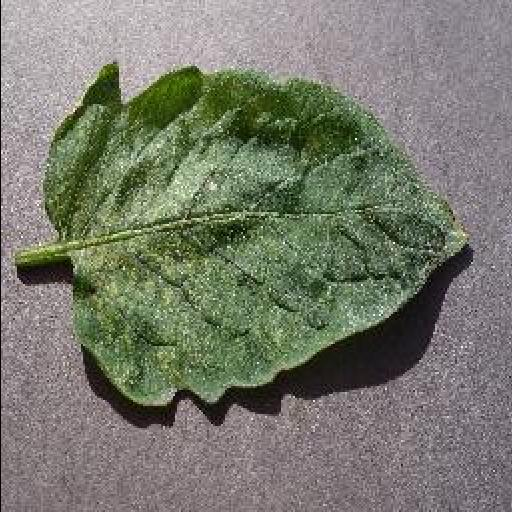disease_tomato: (44, 62, 472, 406)
